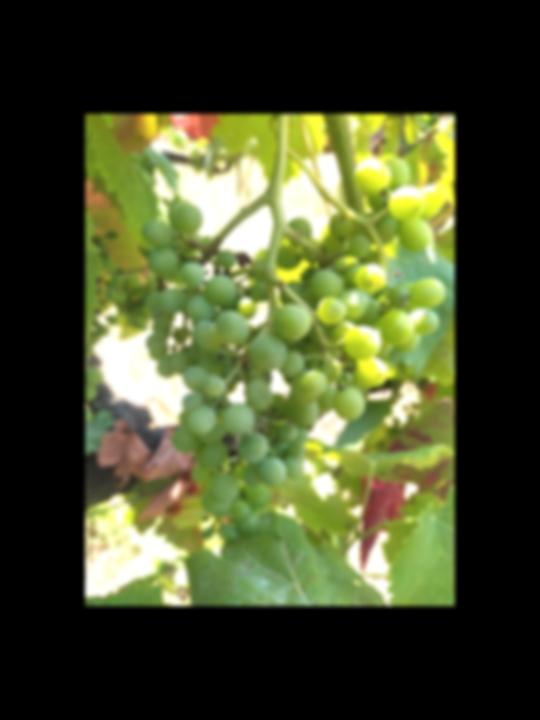grape: (143, 157, 449, 545)
